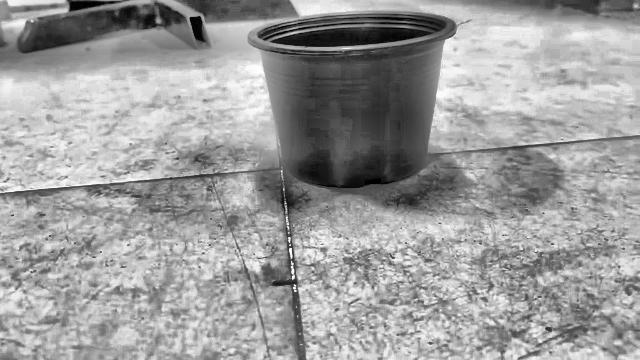pot: (248, 11, 456, 187)
